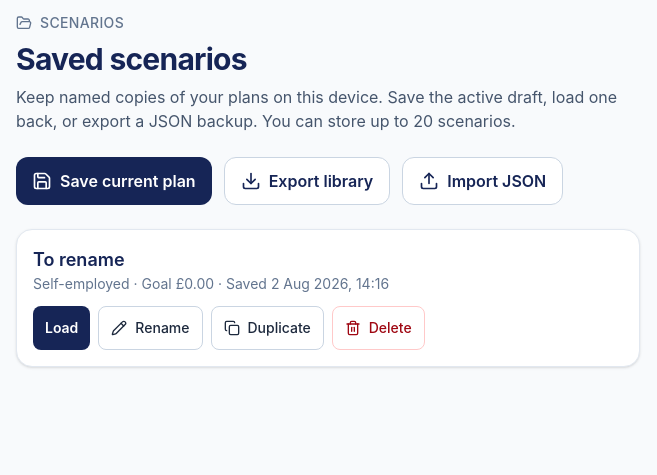
Test: Scenarios page › renames and deletes with confirm
Click the button "Rename" at (150, 328), box [98,306,202,350]
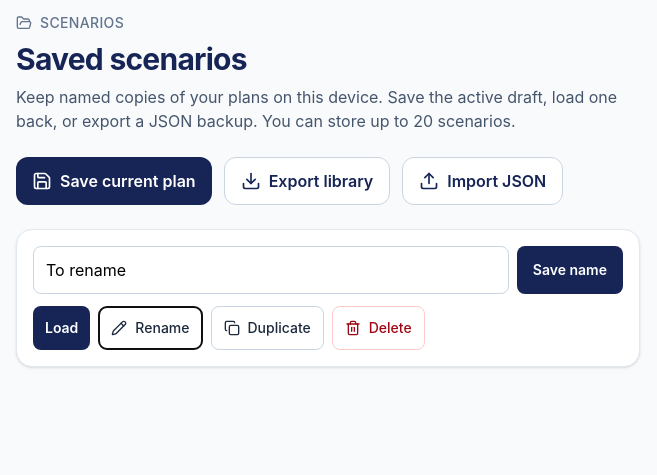
Replace the text in the field named "Scenario name" with "New name" at (271, 270), box [33,246,509,294]
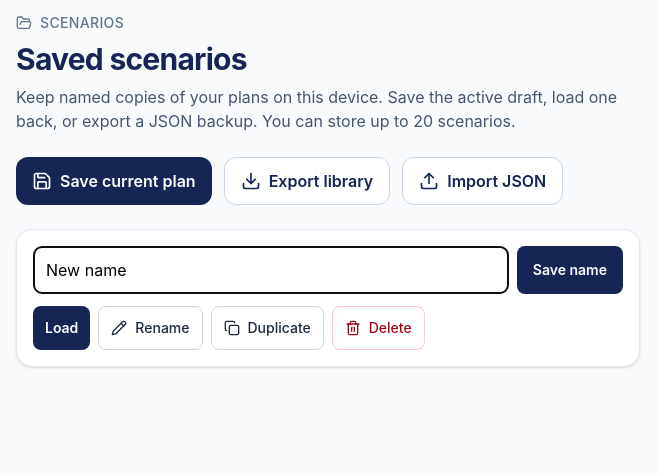
Click the button "Save name" at (570, 270), box [517,246,623,294]
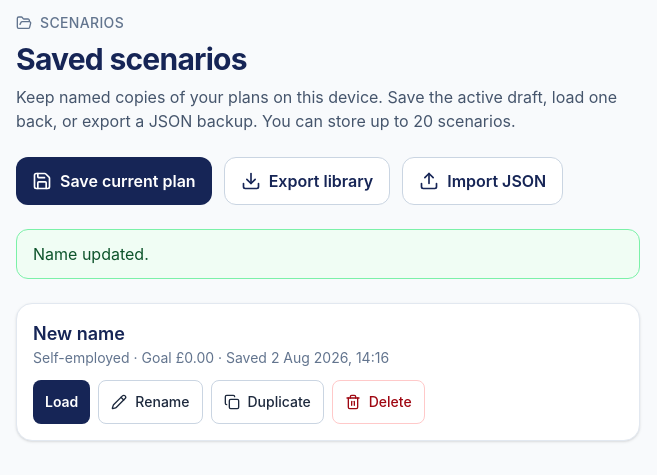
Result: the heading "New name" is shown at [33,323,125,344]
Click the button with aria-label "Delete New name" at (378, 402), box [332,380,425,424]
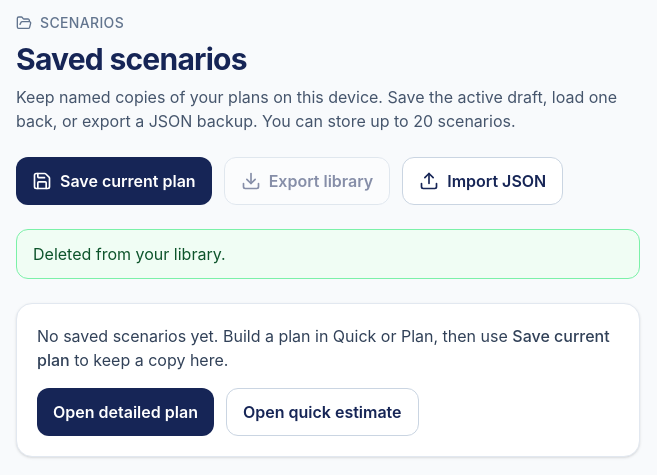
Result: the element with test id "scenarios-empty" is shown at [16,303,640,457]
